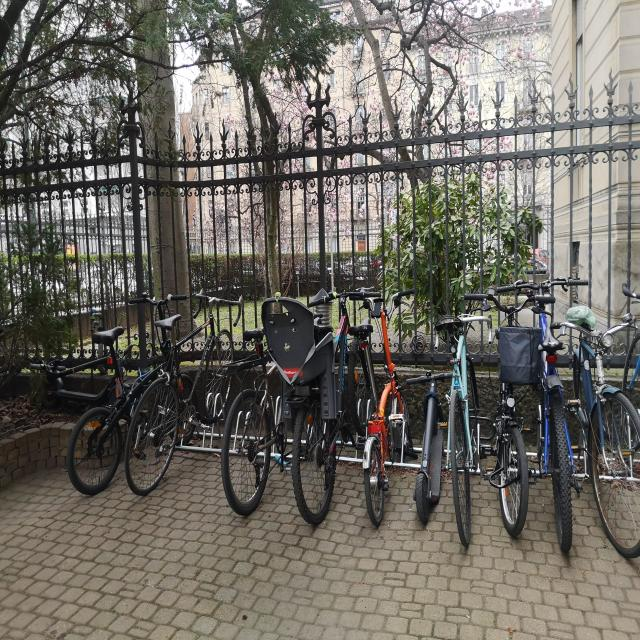Bicycle: (73, 281, 209, 508), (131, 288, 256, 510), (560, 257, 640, 571), (282, 258, 368, 522), (522, 210, 579, 563), (477, 250, 529, 534), (234, 288, 291, 526), (448, 269, 492, 549), (366, 266, 409, 529), (409, 357, 448, 523)
